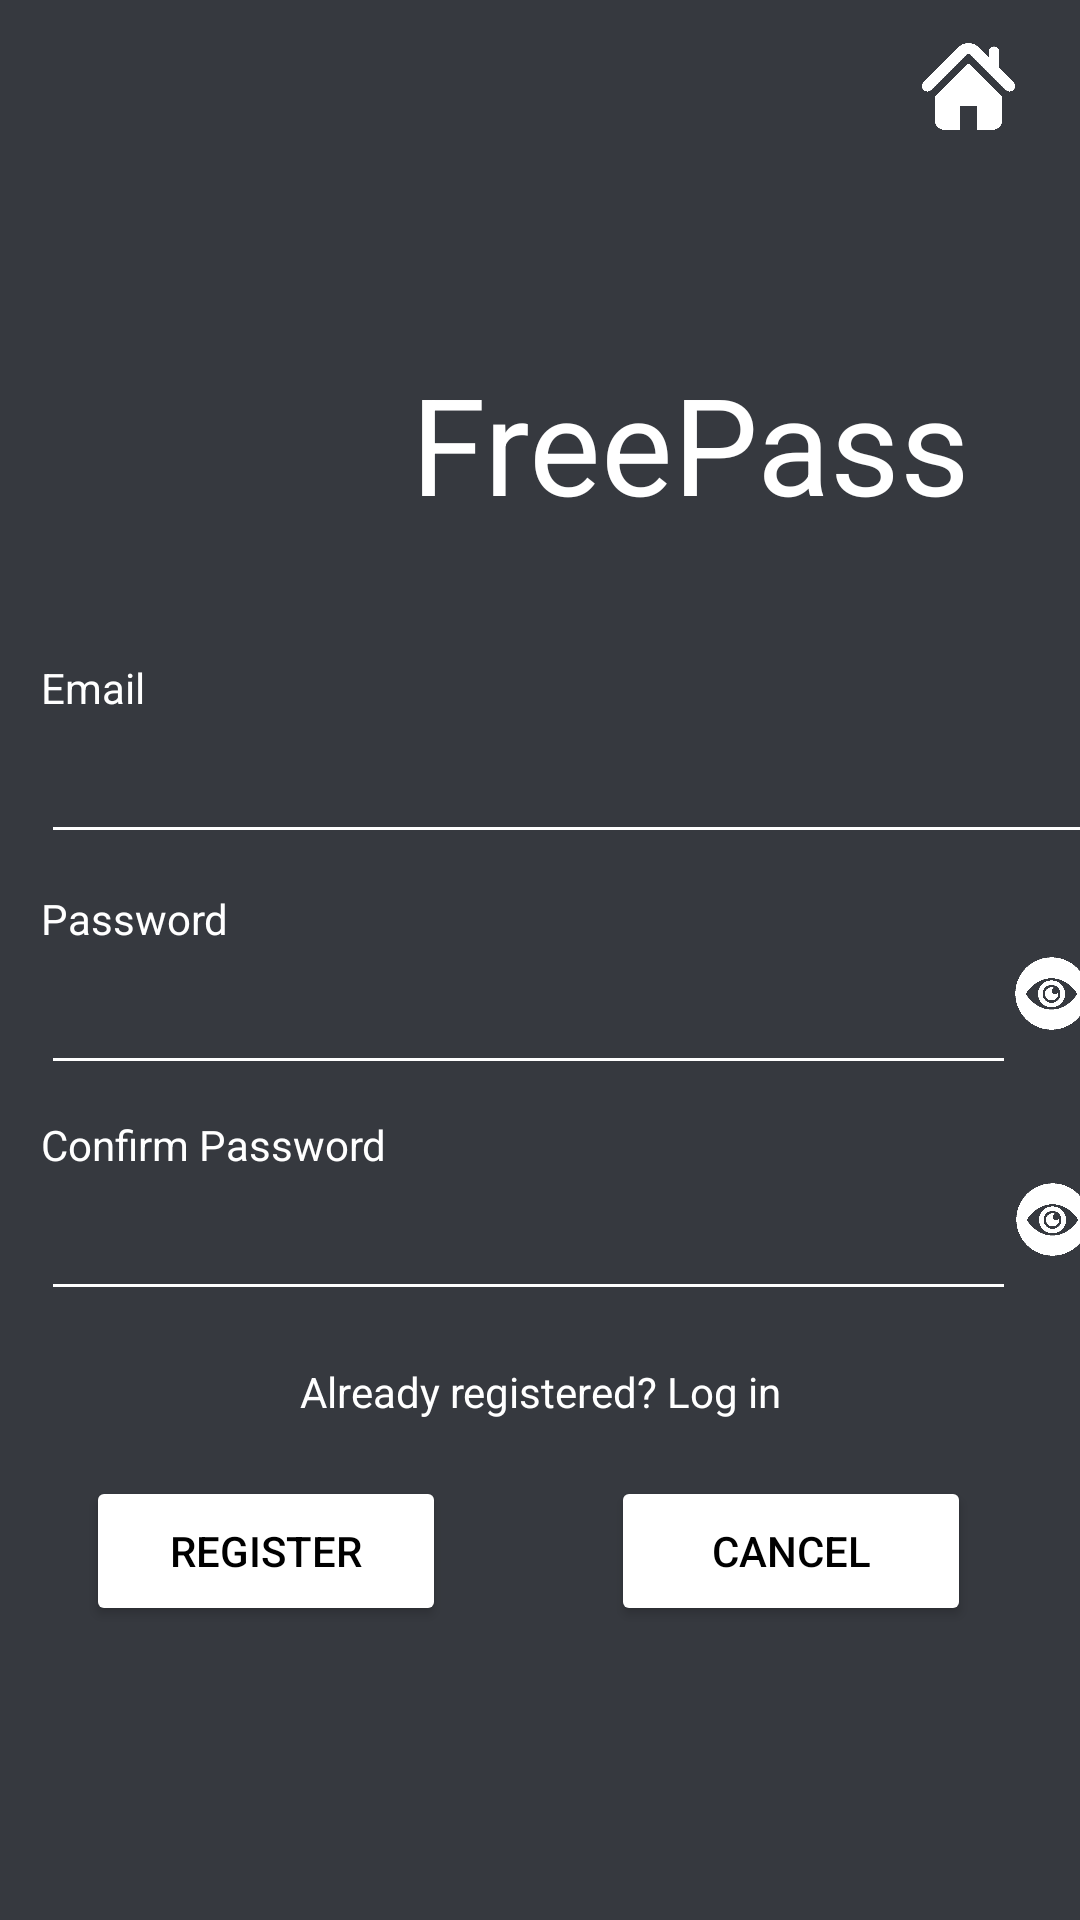

Named icons in this screenshot (1080x1920) and their centers, (x,y):
home: (968,86)
